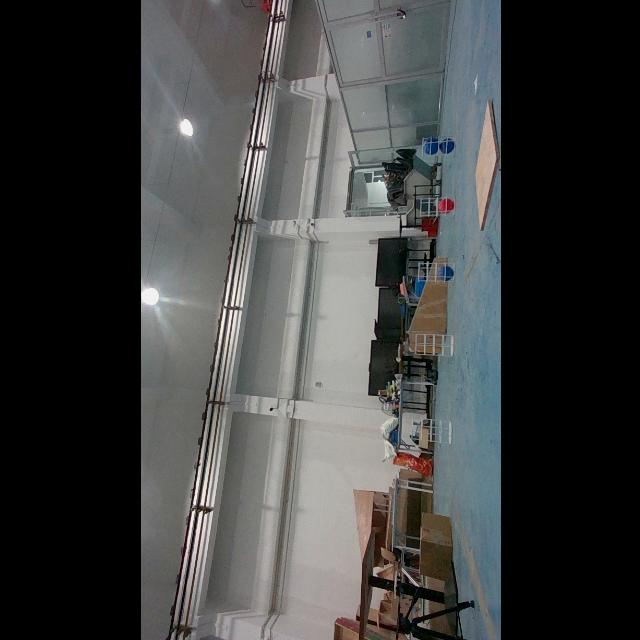B: (422, 137, 438, 157), (438, 138, 454, 154), (438, 266, 452, 282)
R: (439, 198, 453, 215)
S: (410, 415, 454, 445), (413, 331, 457, 359), (419, 132, 458, 160), (414, 258, 456, 284), (417, 194, 457, 218)
